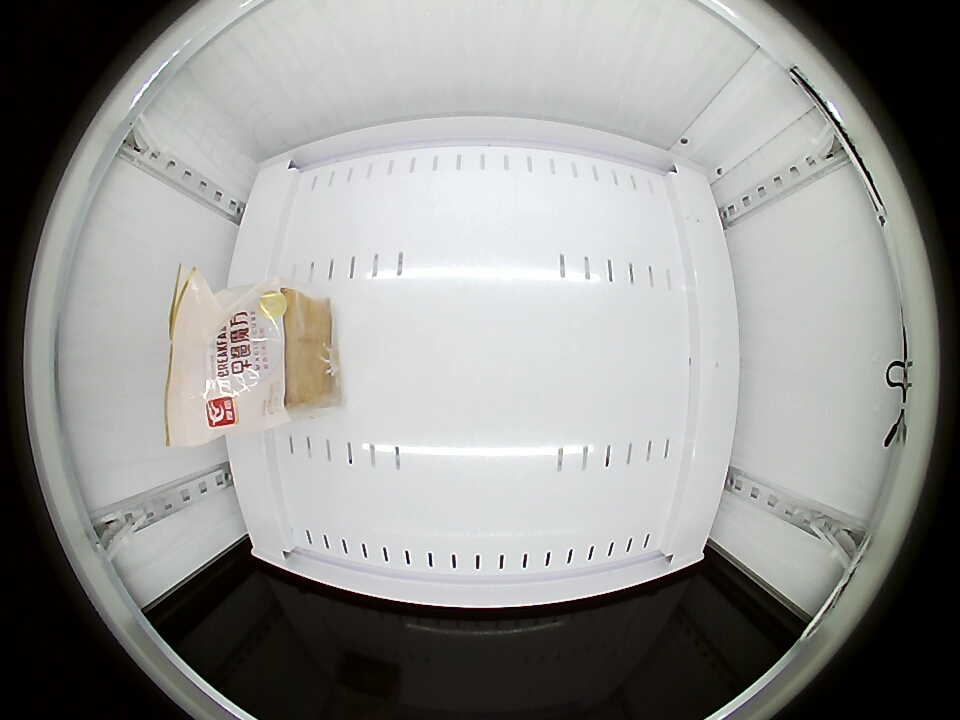zaocanmofang: (163, 281, 319, 445)
